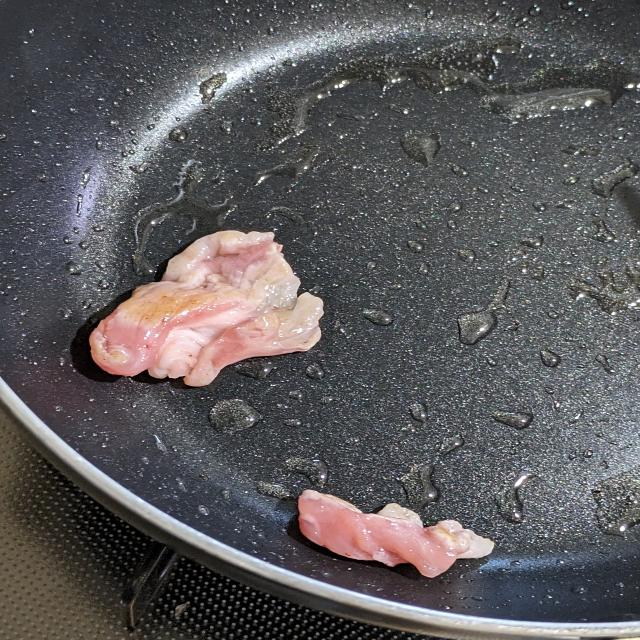NG undercooked pork,: (65, 222, 333, 395), (288, 477, 506, 581)
